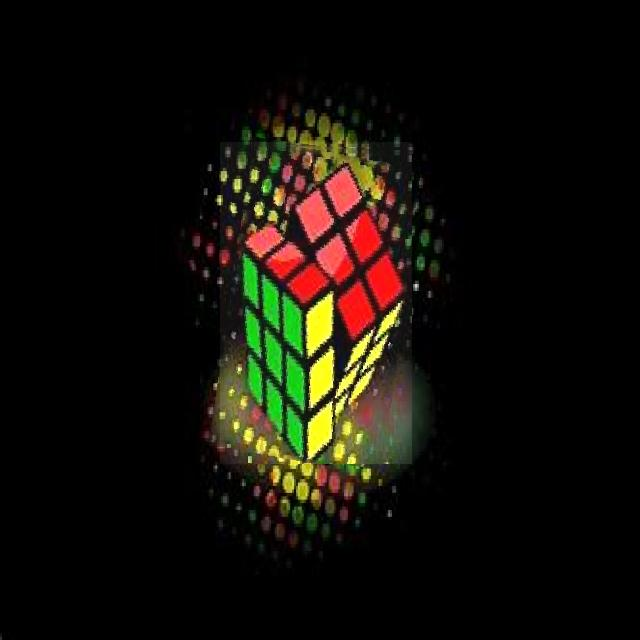cube: (238, 161, 404, 462)
